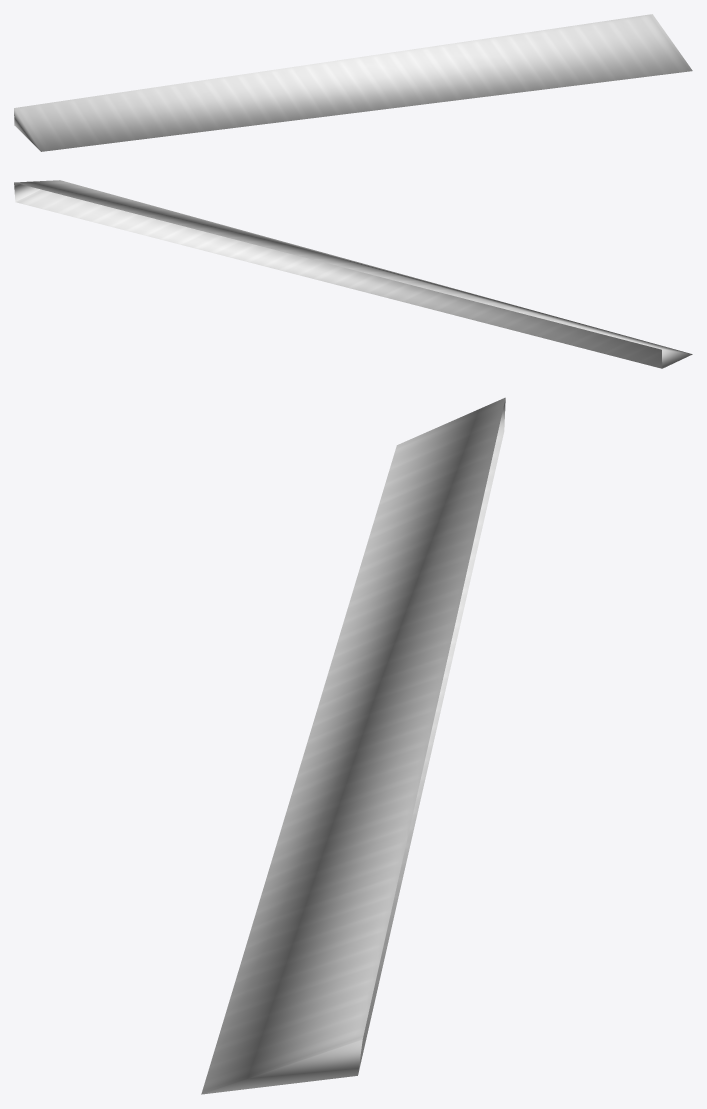
File: left_aileron.glb
The picture shows the model from 3 angles, top to bottom: view 1: azimuth 30°, elevation 25°; view 2: azimuth 150°, elevation 25°; view 3: azimuth 270°, elevation 25°; orthographic projection. The views are drawn at different scales.
Parts seen in each view (by area): view 1: left_aileron; view 2: left_aileron; view 3: left_aileron.
Part boxes in pixels (<box>): left_aileron: <box>14,14,692,151</box>; left_aileron: <box>14,180,692,368</box>; left_aileron: <box>201,397,505,1094</box>.
Size of the model in its own units: 2.85 by 0.2456 by 0.623.
1 material, 1 textured.
